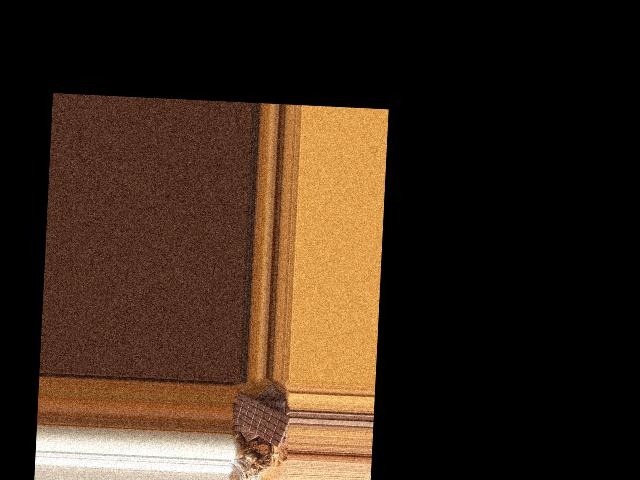chocolate: (232, 391, 291, 450)
